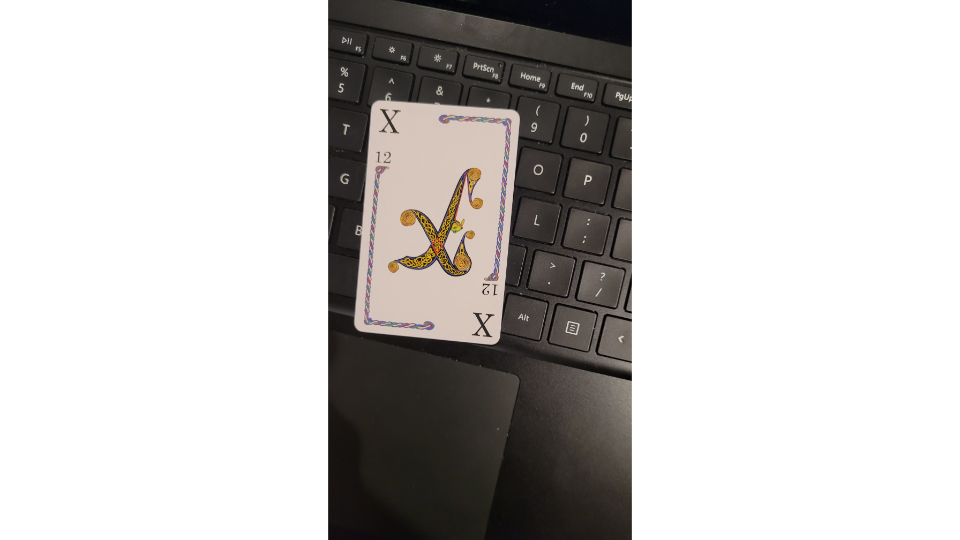X: (352, 97, 523, 347)
